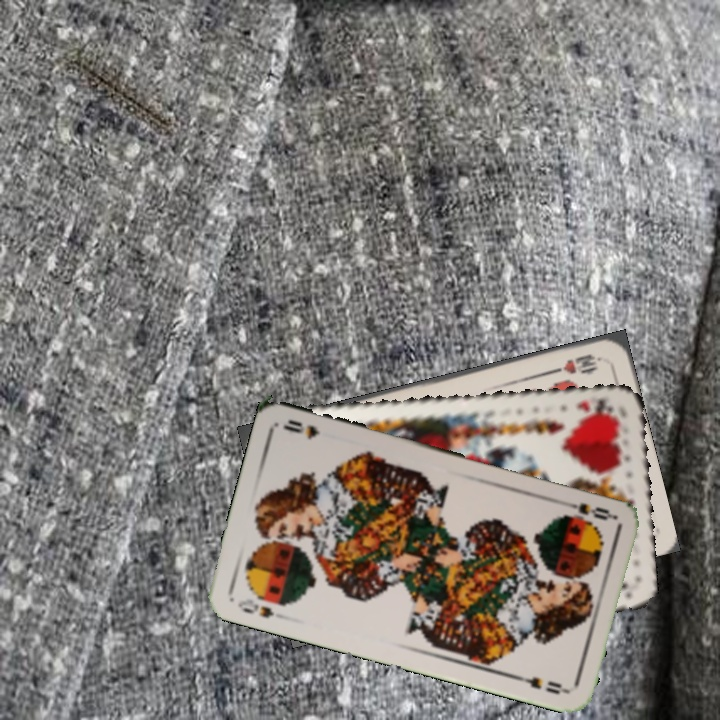H10: (547, 350, 605, 377)
HK: (573, 395, 619, 420)
SO: (558, 497, 616, 523), (234, 594, 277, 621)
